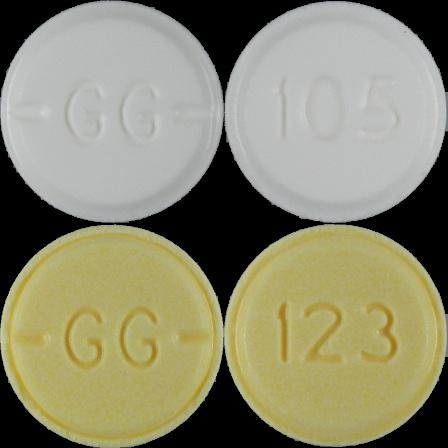0781-1391: (0, 0, 224, 224)
